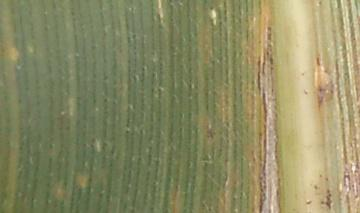tarspot: (319, 187, 333, 211), (266, 24, 272, 43), (314, 56, 321, 67), (300, 87, 308, 96), (312, 183, 319, 191), (305, 199, 312, 206), (316, 1, 323, 7), (299, 71, 306, 77), (124, 129, 130, 135)
